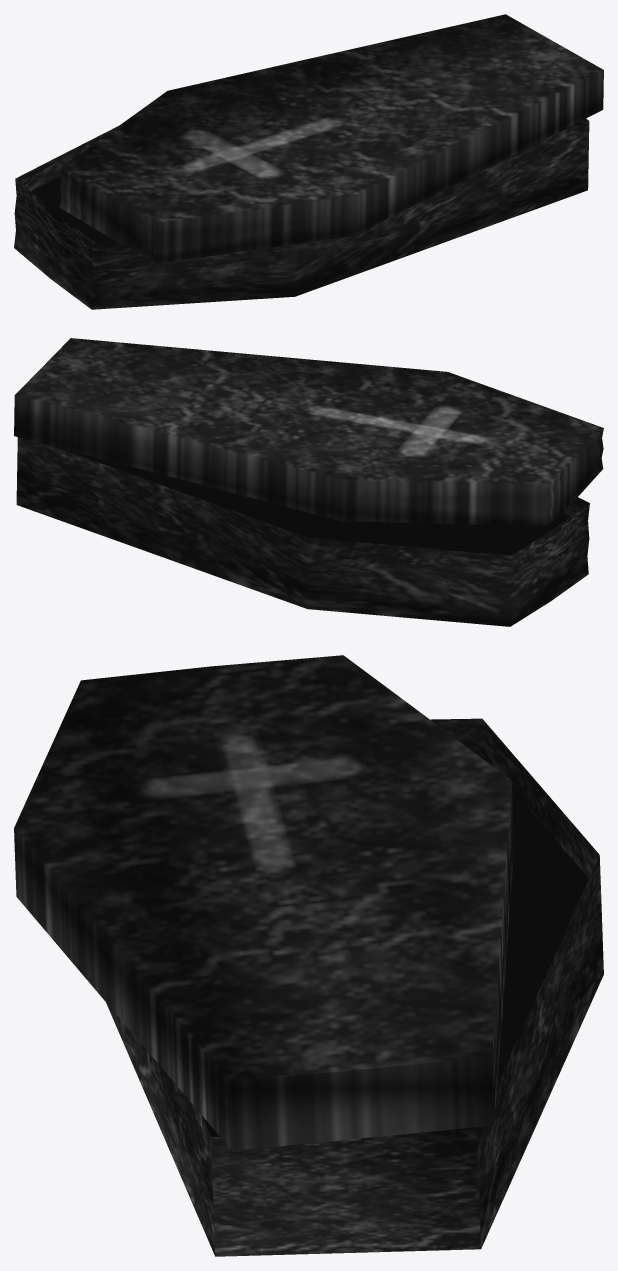
Rendered from sarg_stein.dae.
The picture shows the model from 3 angles, top to bottom: view 1: azimuth 30°, elevation 25°; view 2: azimuth 150°, elevation 25°; view 3: azimuth 270°, elevation 25°; orthographic projection. The views are drawn at different scales.
Parts seen in each view (by area): view 1: Cube; view 2: Cube; view 3: Cube.
Part boxes in pixels (left/top/right/bottom): Cube: left=14, top=14, right=603, bottom=309; Cube: left=14, top=338, right=603, bottom=626; Cube: left=14, top=655, right=603, bottom=1256.
Size of the model in its own units: 2.86 by 1.66 by 0.6297.
1 material, 1 textured.
